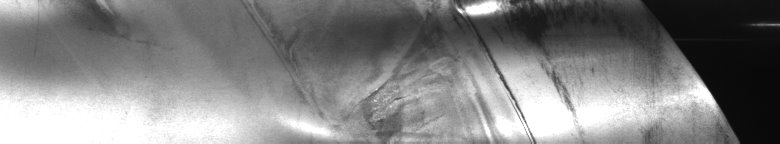ke: (364, 4, 594, 136)
